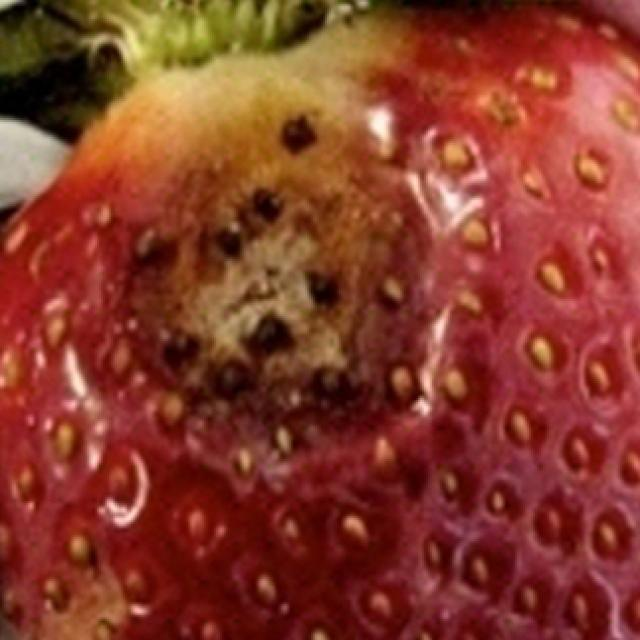Anthracnose Fruit Rot: (73, 41, 503, 491)
